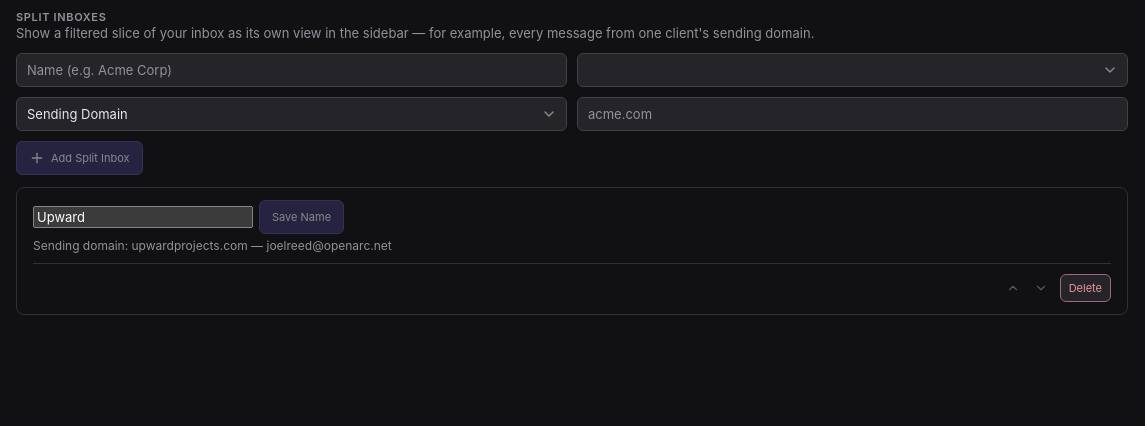
split inbox settings cards › reports deletion failures and requires confirmation again to retry
Click the button "Delete": point(1085, 288) top-left (1060, 274), bottom-right (1111, 302)
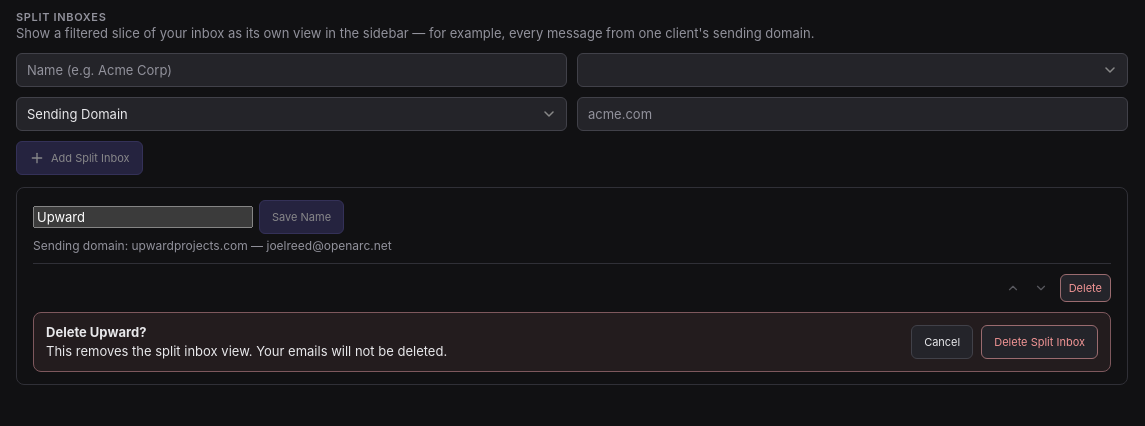
Click the button "Delete Split Inbox": point(1040, 342) top-left (981, 325), bottom-right (1098, 359)
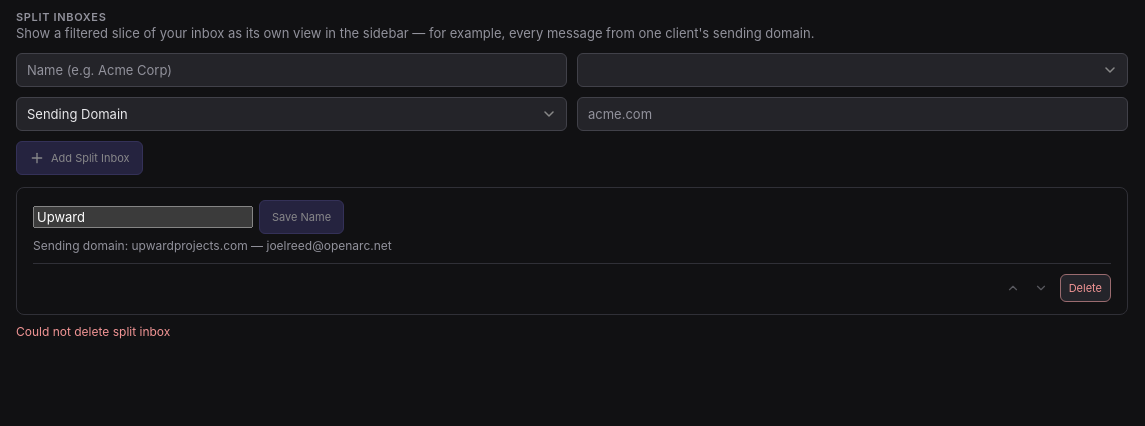
expect the message reads "Could not delete split inbox": met, box top-left (16, 324), bottom-right (170, 339)
Click the button "Delete": point(1085, 288) top-left (1060, 274), bottom-right (1111, 302)
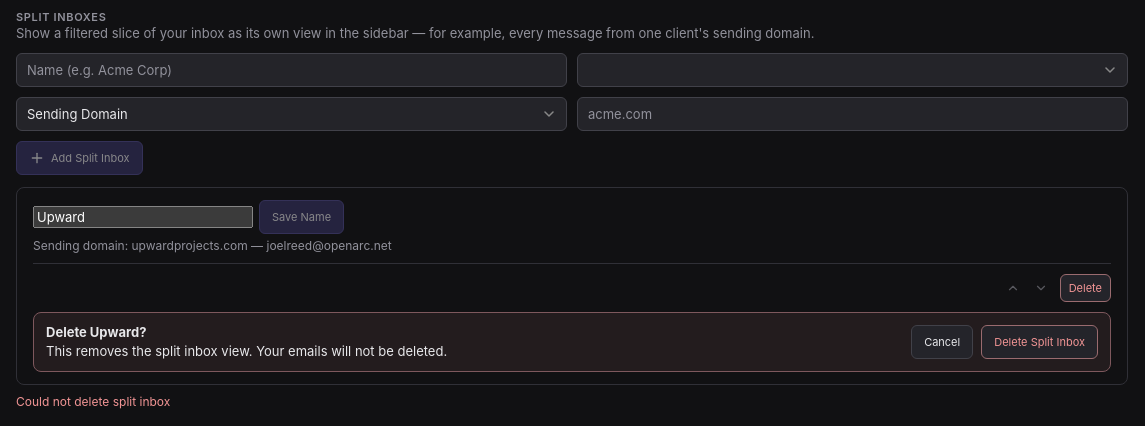
expect the element named "Delete Upward confirmation" is shown: met, box top-left (33, 312), bottom-right (1111, 372)
